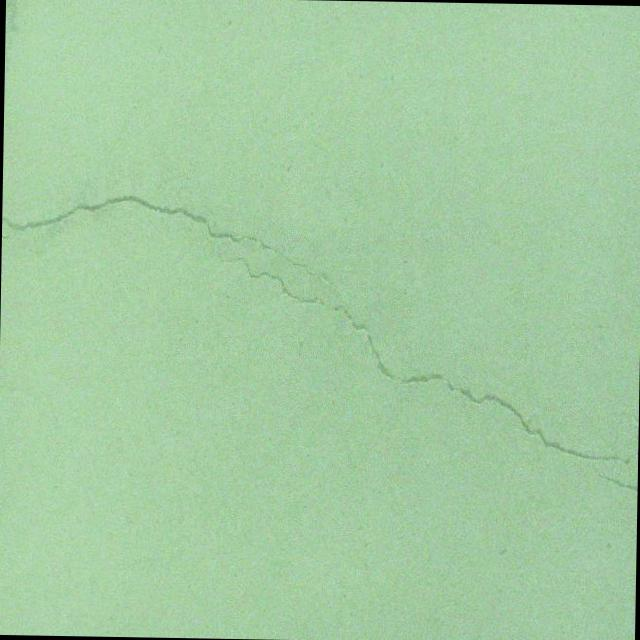crack: (0, 187, 640, 466), (584, 462, 638, 492), (2, 235, 8, 238)
